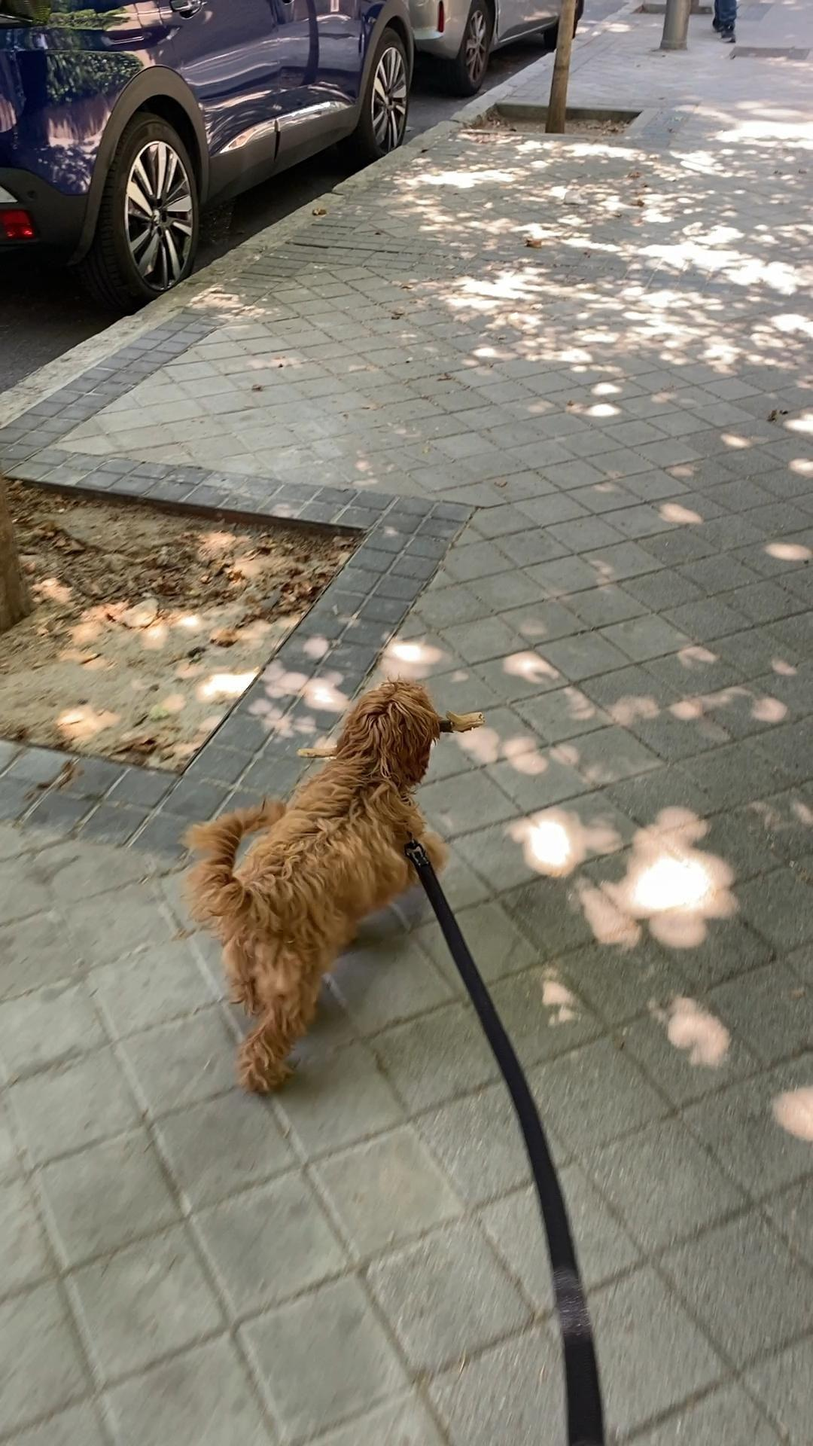adult_dog: (172, 676, 456, 1099)
non-dog: (711, 0, 738, 44)
